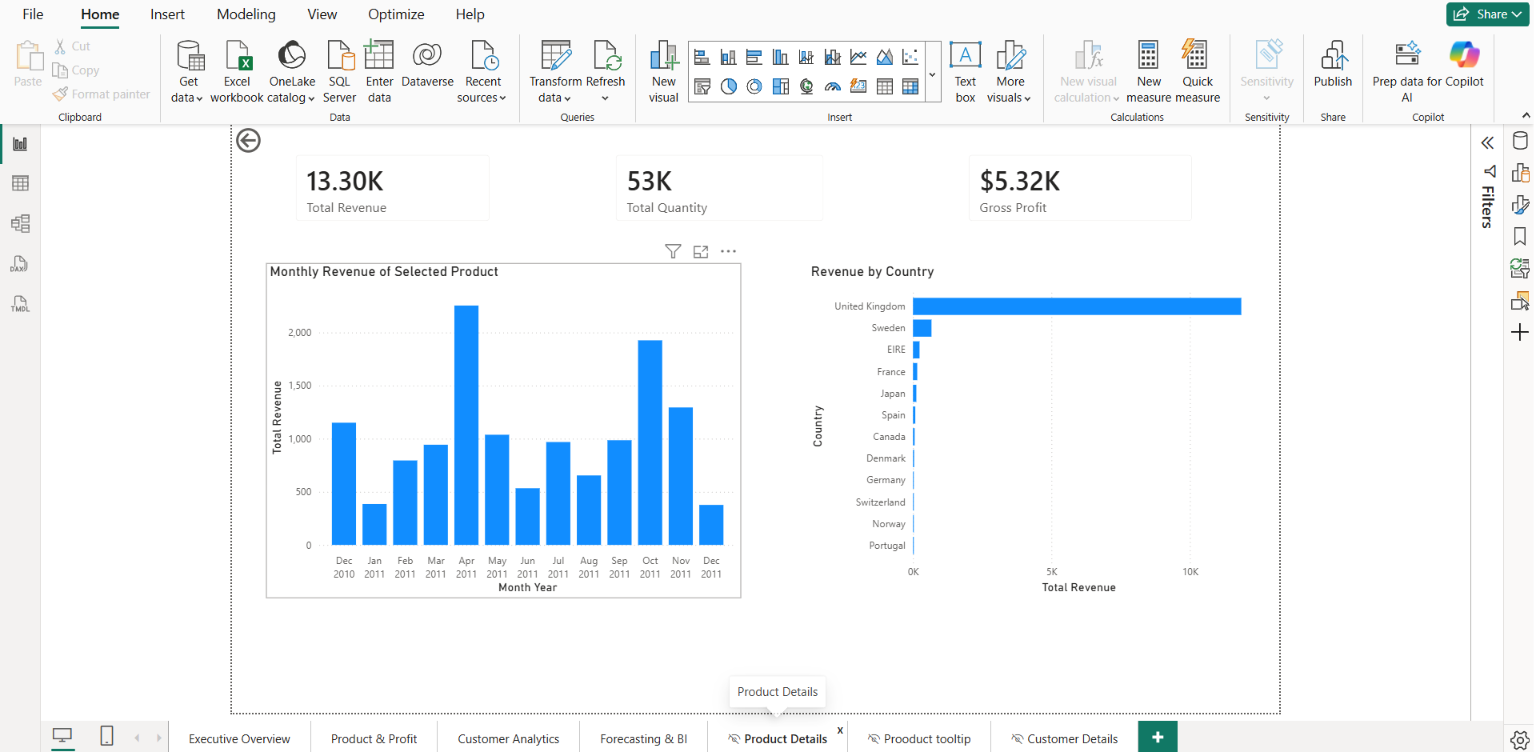

This screenshot's page, from the dashboard's own definition file:
{"tool":"powerbi","page":{"name":"Product Details","canvas":[1280,720],"ordinal":4},"visuals":[{"type":"cardVisual","fields":{"Data":["output.Total Revenue"]},"box":[60.6,20.2,271.2,115.4],"z":0},{"type":"cardVisual","fields":{"Data":["output.Total Quantity"]},"box":[453,20.2,288.6,115.4],"z":1000},{"type":"cardVisual","fields":{"Data":["output.Gross Profit"]},"box":[884.4,20.2,307.3,115.4],"z":2000},{"type":"lineStackedColumnComboChart","title":"Monthly Revenue of Selected Product","fields":{"Category":["DateTable.Month Year"],"Y":["output.Total Revenue"]},"box":[41.8,170.2,580,409.7],"z":3000},{"type":"clusteredBarChart","title":"Revenue by Country","fields":{"Category":["output.Country"],"Y":["output.Total Revenue"]},"box":[702.6,170.2,551.1,409.7],"z":4000},{"type":"actionButton","box":[0,0,100,40],"z":5000}]}

Visuals, with their boxes on the page's 1280x720 design canvas (x1, y1, x2, y2). These are canvas units, not pixel positions in the 1534x752 screenshot, which may show the page scaled, cropped or inside an application window:
cardVisual - output.Total Revenue: x1=61 y1=20 x2=332 y2=136
cardVisual - output.Total Quantity: x1=453 y1=20 x2=742 y2=136
cardVisual - output.Gross Profit: x1=884 y1=20 x2=1192 y2=136
"Monthly Revenue of Selected Product" lineStackedColumnComboChart: x1=42 y1=170 x2=622 y2=580
"Revenue by Country" clusteredBarChart: x1=703 y1=170 x2=1254 y2=580
actionButton: x1=0 y1=0 x2=100 y2=40
